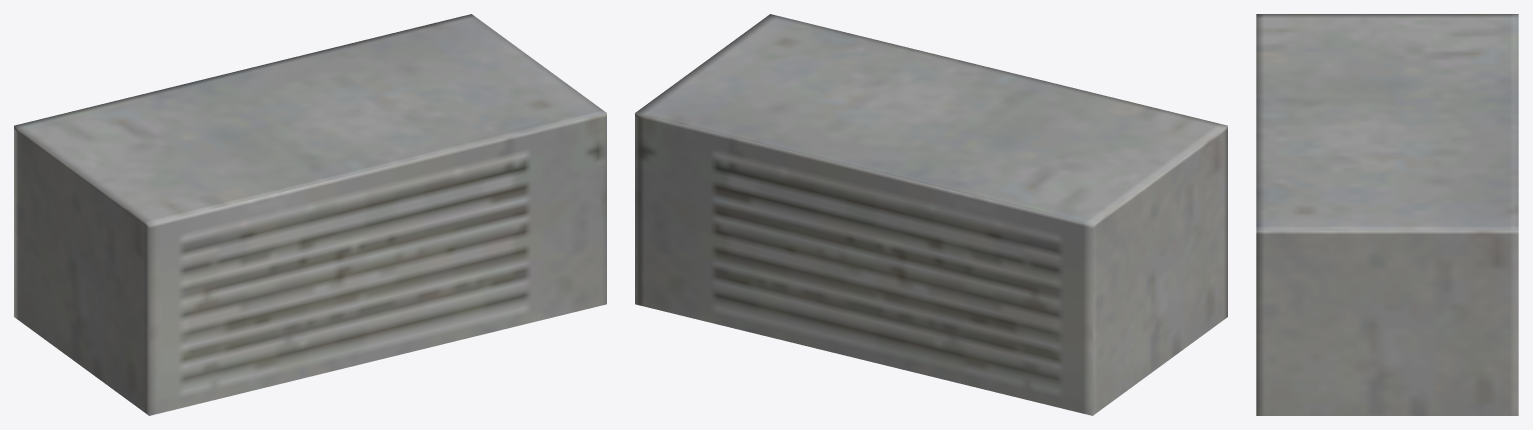
Rendered from 00_03_outside_ventilation.dae.
3 renders of one model, left to right at view 1: azimuth 30°, elevation 25°; view 2: azimuth 150°, elevation 25°; view 3: azimuth 270°, elevation 25°, orthographic. The views are drawn at different scales.
Parts seen in each view (by area): view 1: ventilation; view 2: ventilation; view 3: ventilation.
Boxes of the visible parts, x1,y1,x2,y2 form: ventilation: (14,14,606,415); ventilation: (635,14,1227,415); ventilation: (1256,14,1518,415).
Size of the model in its own units: 7.13 by 2.85 by 3.65.
